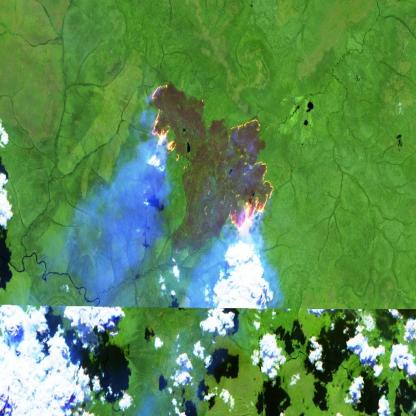fire: (148, 78, 276, 244)
